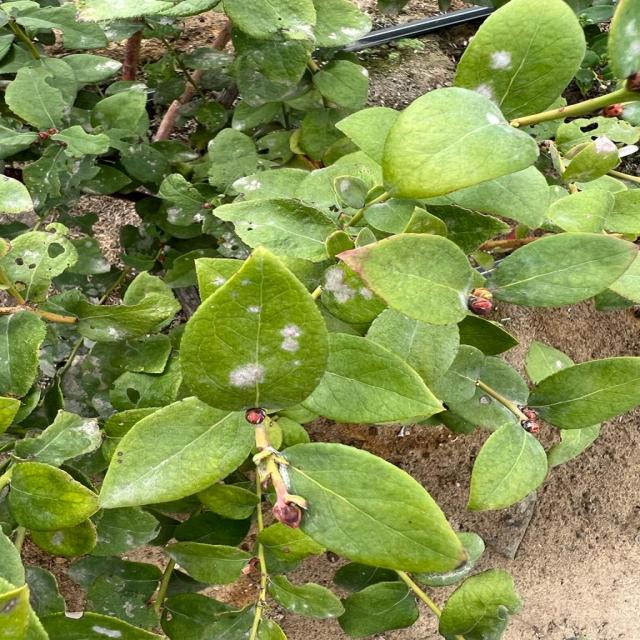Hojas con oidiosis: (265, 441, 473, 573), (176, 242, 331, 413), (93, 389, 261, 509), (378, 84, 542, 199), (332, 230, 482, 328), (483, 230, 639, 309), (209, 194, 343, 264), (463, 419, 552, 514), (5, 459, 107, 532)
